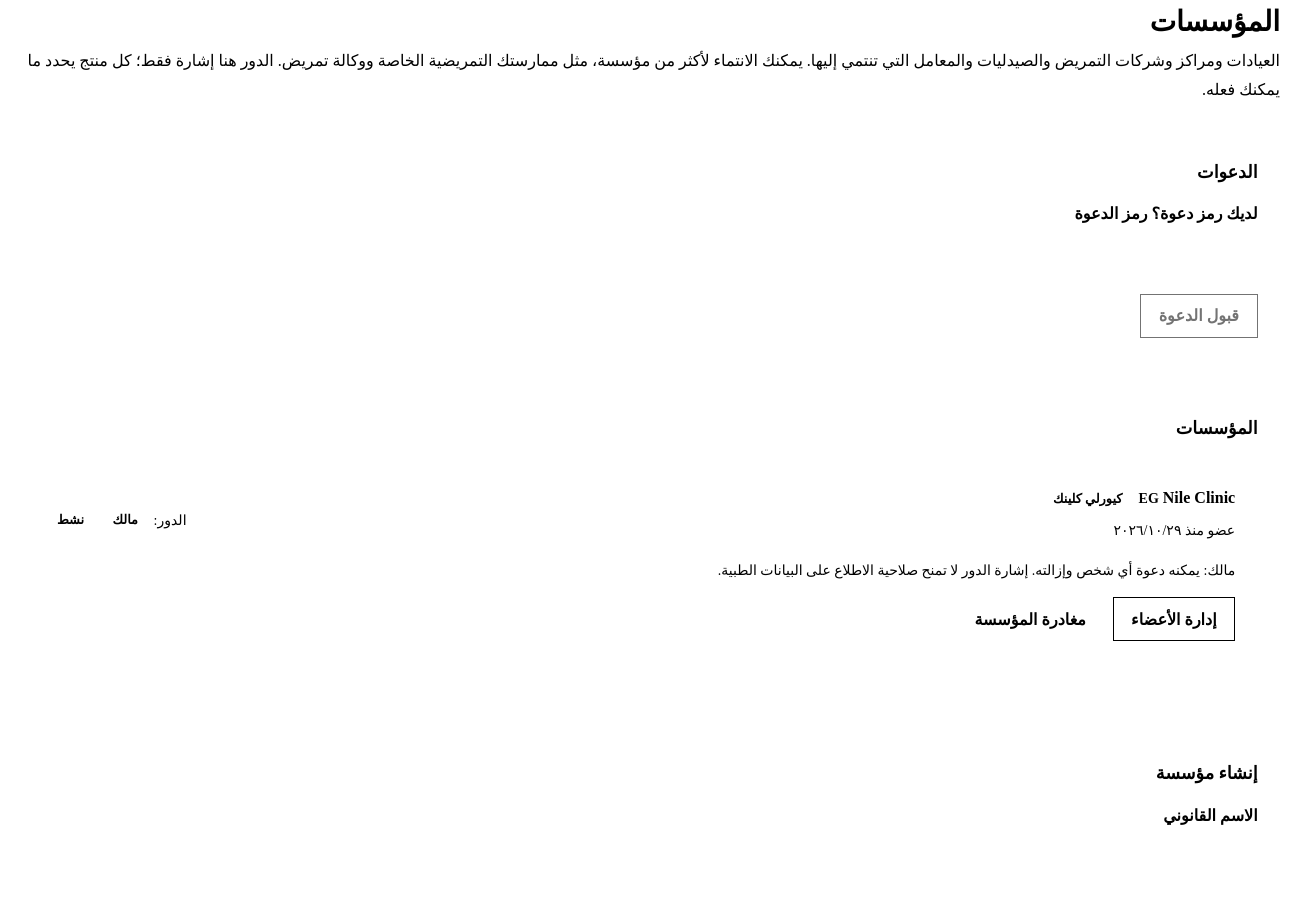
Test: SCIM token management (org owners and admins) › Arabic heading
Click the button "إدارة الأعضاء": {"x": 1174, "y": 619} left=1112, top=597, right=1235, bottom=641
(page scrolled)
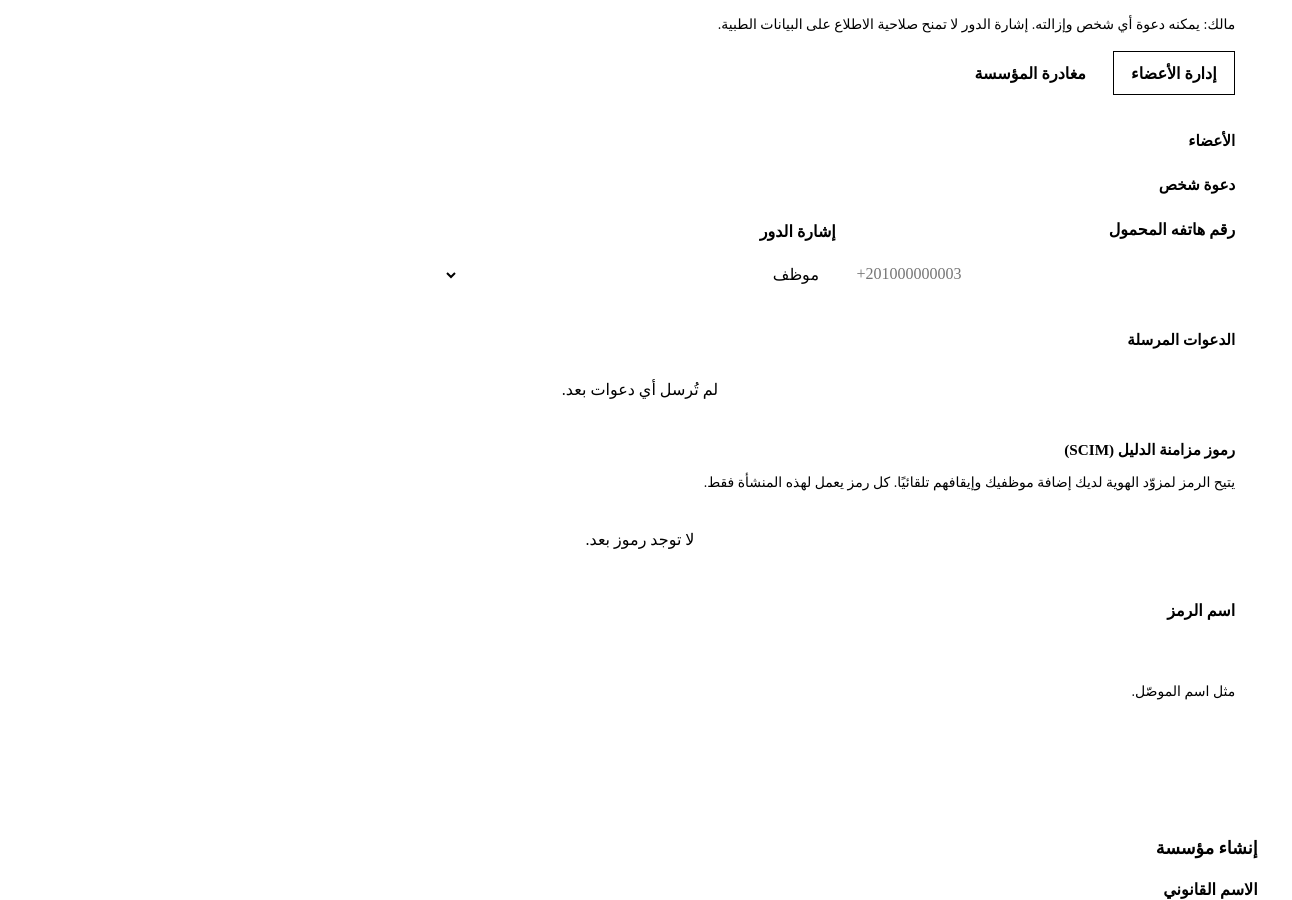
Expected: the heading "رموز مزامنة الدليل (SCIM)" is shown, left=1064, top=442, right=1235, bottom=458
